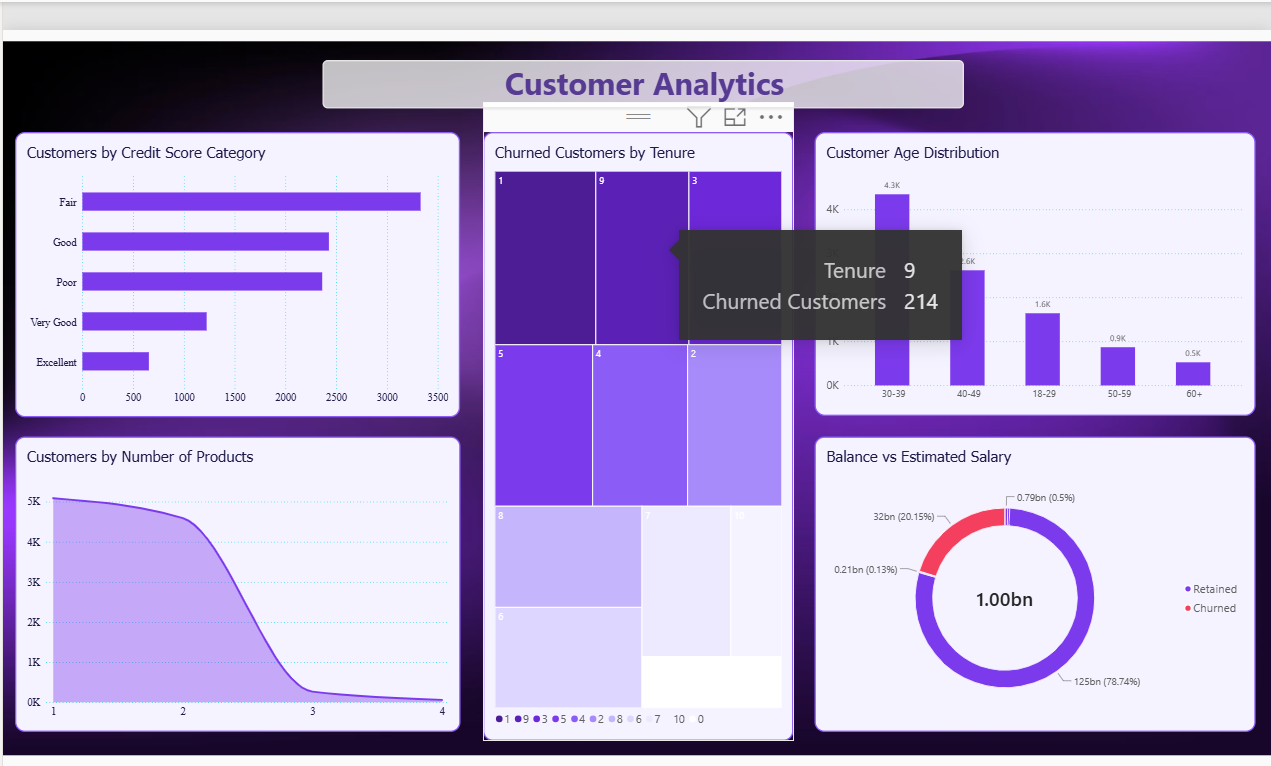

The page's visual inventory and layout, read from the dashboard file:
{"tool":"powerbi","page":{"name":"Customer Analytics","canvas":[1920,1080],"ordinal":1},"visuals":[{"type":"clusteredBarChart","title":"Customers by Credit Score Category","fields":{"Category":["Customer-Churn-Records.Credit Score Category"],"Y":["Customer-Churn-Records.Total Customers"]},"box":[19,109.5,674.1,431.9],"z":0},{"type":"clusteredColumnChart","title":"Customer Age Distribution","fields":{"Category":["Customer-Churn-Records.Age Group"],"Y":["Customer-Churn-Records.Total Customers"]},"box":[1228.2,109.5,667.8,429.8],"z":1000},{"type":"areaChart","title":"Customers by Number of Products","fields":{"Category":["Customer-Churn-Records.NumOfProducts"],"Y":["Customer-Churn-Records.Total Customers"]},"box":[18.2,570.1,674.6,447.4],"z":2000},{"type":"donutChart","title":"Balance vs Estimated Salary","fields":{"Category":["Customer-Churn-Records.Customer Status"],"Y":["Customer-Churn-Records.EstimatedSalary","Sum(Customer-Churn-Records.Balance)","Sum(Customer-Churn-Records.CustomerId)"]},"box":[1228.8,570.1,667.8,447.4],"z":3000},{"type":"treemap","title":"Churned Customers by Tenure","fields":{"Group":["Customer-Churn-Records.Tenure"],"Values":["Customer-Churn-Records.Churned Customers"]},"box":[726.8,109,470.2,922.2],"z":4000},{"type":"textbox","title":"Customer Analytics","box":[484.4,0,971.1,73.3],"z":5000}]}

Visuals, with their boxes on the page's 1920x1080 design canvas (x1, y1, x2, y2). These are canvas units, not pixel positions in the 1271x766 screenshot, which may show the page scaled, cropped or inside an application window:
"Customers by Credit Score Category" clusteredBarChart: left=19, top=110, right=693, bottom=541
"Customer Age Distribution" clusteredColumnChart: left=1228, top=110, right=1896, bottom=539
"Customers by Number of Products" areaChart: left=18, top=570, right=693, bottom=1018
"Balance vs Estimated Salary" donutChart: left=1229, top=570, right=1897, bottom=1018
"Churned Customers by Tenure" treemap: left=727, top=109, right=1197, bottom=1031
"Customer Analytics" textbox: left=484, top=0, right=1456, bottom=73
